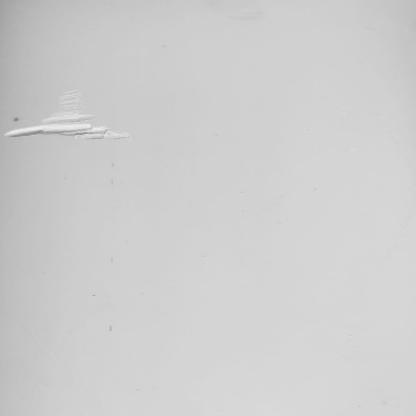sunshang: (6, 86, 134, 143)
